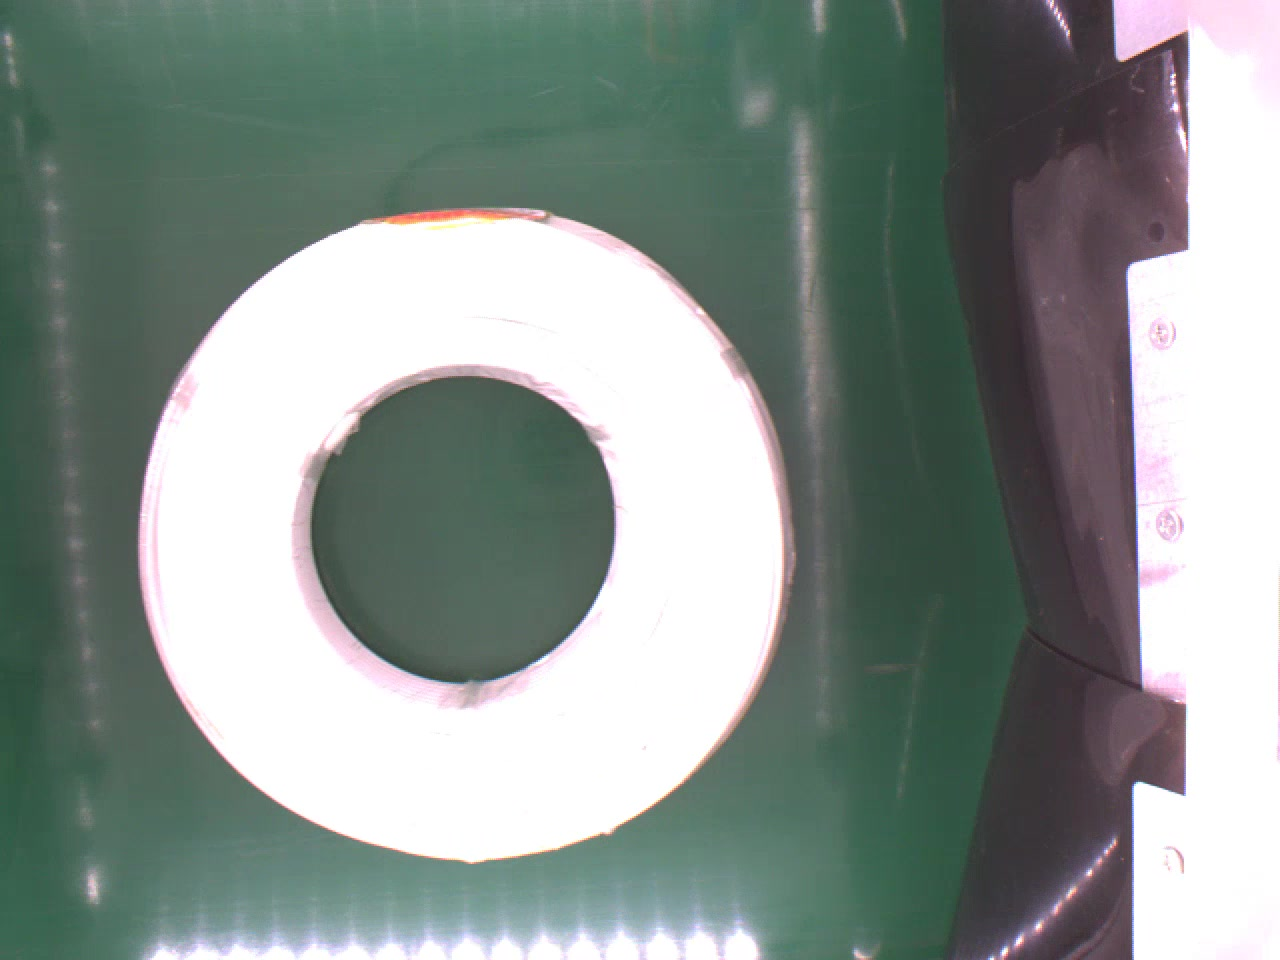white: (133, 201, 802, 870)
